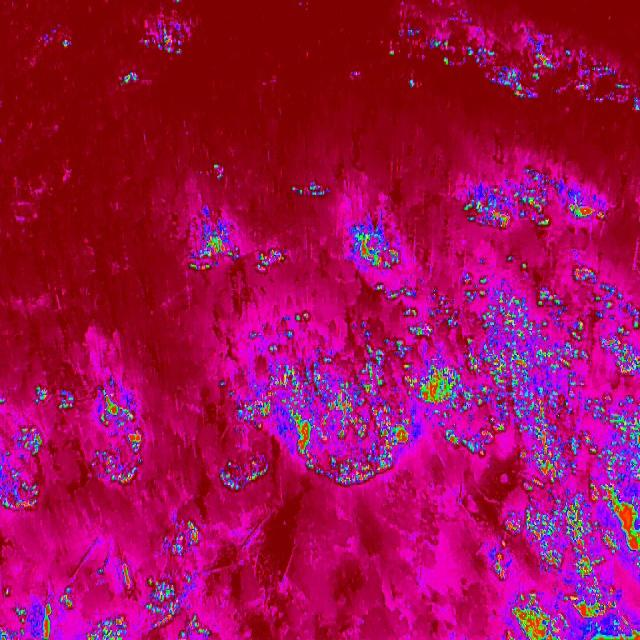fire: (454, 265, 640, 640), (217, 286, 470, 496), (362, 16, 640, 126), (0, 519, 221, 640), (0, 378, 151, 516), (60, 12, 188, 89), (459, 174, 608, 236), (179, 211, 287, 284), (345, 220, 407, 278), (288, 172, 332, 202), (213, 158, 231, 181)
